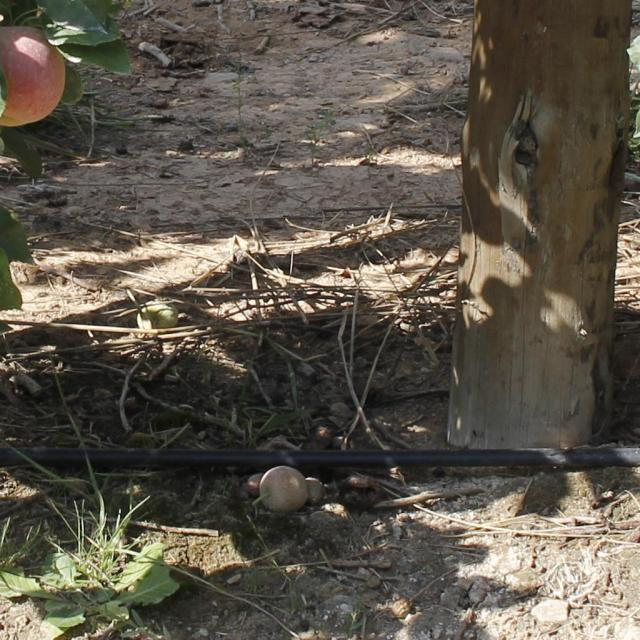Rotten Apple: (1, 25, 64, 127)
